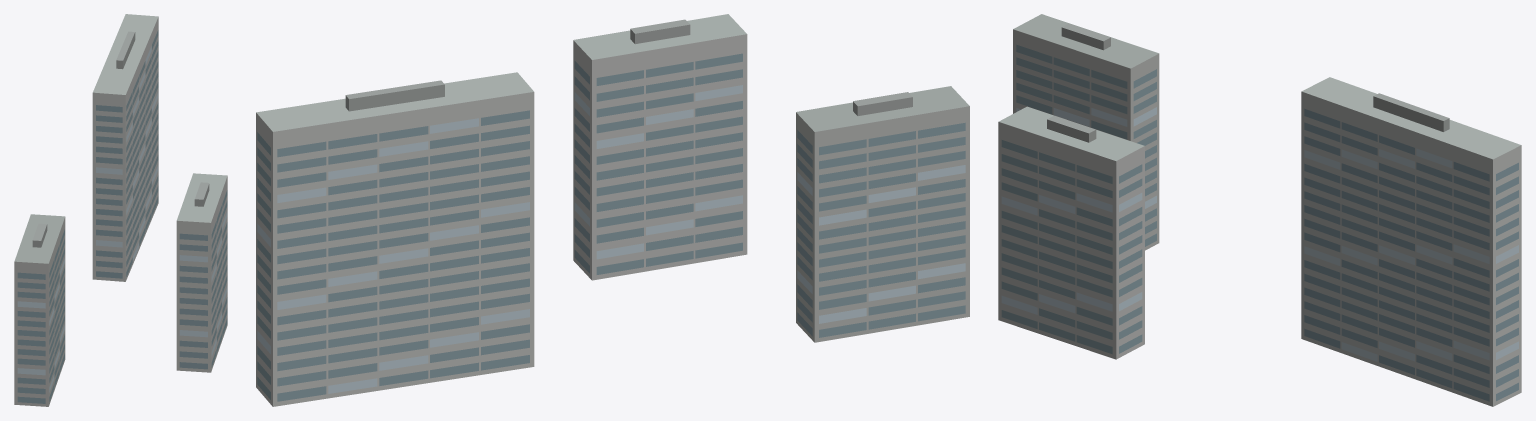
Rendered from apt-a10027432.glb.
3 views of the same model, side by side, from view 1: azimuth 30°, elevation 25°; view 2: azimuth 150°, elevation 25°; view 3: azimuth 270°, elevation 25° (orthographic). The views are drawn at different scales.
Visible parts, largest first — view 1: apt-a10027432; view 2: apt-a10027432; view 3: apt-a10027432.
Boxes of the visible parts, left/top/right/bottom form: apt-a10027432: left=14, top=14, right=227, bottom=406; apt-a10027432: left=256, top=14, right=969, bottom=406; apt-a10027432: left=998, top=14, right=1521, bottom=406.
Size of the model in its own units: 94.44 by 56 by 103.
